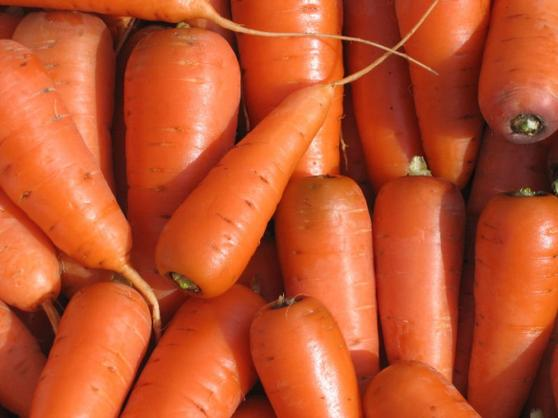carrot: (119, 28, 244, 292)
